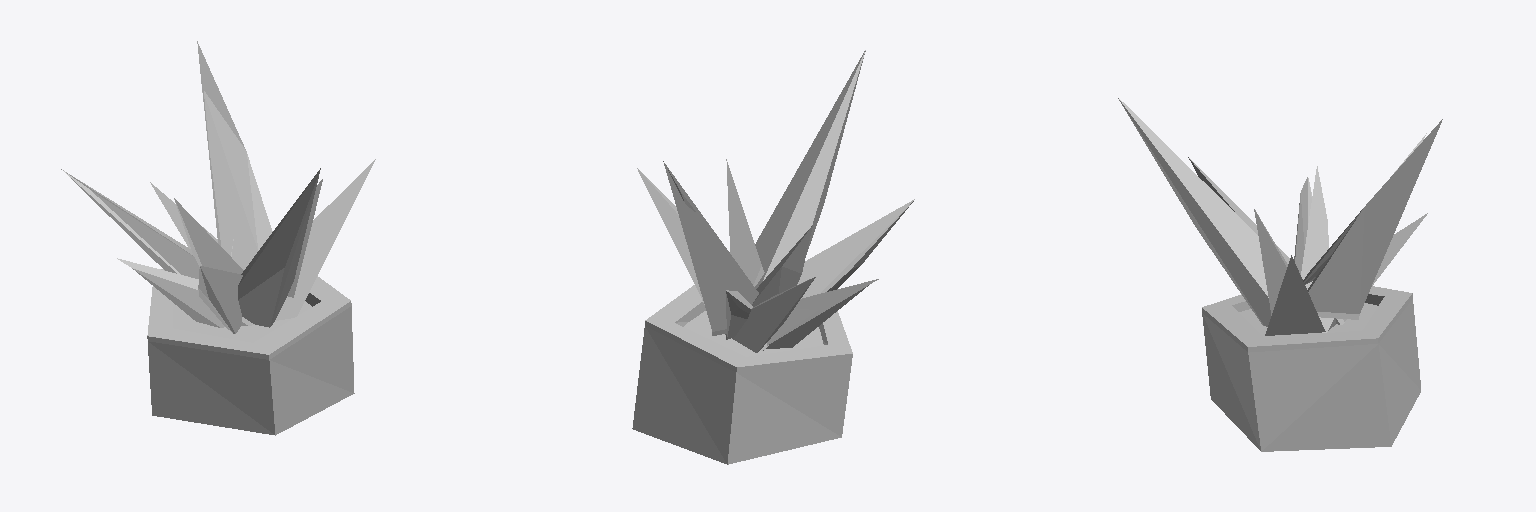
The model's file is Cactus.obj.
3 renders of one model, left to right at view 1: azimuth 30°, elevation 25°; view 2: azimuth 150°, elevation 25°; view 3: azimuth 270°, elevation 25°, orthographic.
Visible parts, largest first — view 1: group[number redacted], group[number redacted], group[number redacted], group[number redacted], group[number redacted], group[number redacted], group[number redacted], group[number redacted], group[number redacted], group[number redacted], group[number redacted]; view 2: group[number redacted], group[number redacted], group[number redacted], group[number redacted], group[number redacted], group[number redacted], group[number redacted], group[number redacted], group[number redacted], group[number redacted], group[number redacted]; view 3: group[number redacted], group[number redacted], group[number redacted], group[number redacted], group[number redacted], group[number redacted], group[number redacted], group[number redacted], group[number redacted], group[number redacted].
Part boxes in pixels (left/top/right/bottom): group[number redacted]: left=147, top=269, right=354, bottom=435; group[number redacted]: left=197, top=41, right=272, bottom=269; group[number redacted]: left=238, top=168, right=320, bottom=327; group[number redacted]: left=241, top=159, right=375, bottom=325; group[number redacted]: left=61, top=169, right=199, bottom=278; group[number redacted]: left=117, top=258, right=224, bottom=327; group[number redacted]: left=198, top=266, right=242, bottom=333; group[number redacted]: left=174, top=198, right=243, bottom=273; group[number redacted]: left=173, top=301, right=311, bottom=342; group[number redacted]: left=288, top=179, right=322, bottom=297; group[number redacted]: left=150, top=182, right=217, bottom=248; group[number redacted]: left=632, top=285, right=852, bottom=464; group[number redacted]: left=755, top=50, right=865, bottom=288; group[number redacted]: left=663, top=161, right=758, bottom=335; group[number redacted]: left=761, top=199, right=914, bottom=350; group[number redacted]: left=767, top=279, right=878, bottom=348; group[number redacted]: left=725, top=277, right=815, bottom=352; group[number redacted]: left=726, top=159, right=764, bottom=286; group[number redacted]: left=752, top=225, right=812, bottom=306; group[number redacted]: left=637, top=168, right=704, bottom=304; group[number redacted]: left=684, top=311, right=823, bottom=356; group[number redacted]: left=726, top=290, right=752, bottom=339; group[number redacted]: left=1202, top=286, right=1420, bottom=451; group[number redacted]: left=1303, top=119, right=1442, bottom=319; group[number redacted]: left=1118, top=98, right=1270, bottom=326; group[number redacted]: left=1265, top=255, right=1325, bottom=335; group[number redacted]: left=1301, top=166, right=1328, bottom=289; group[number redacted]: left=1254, top=209, right=1287, bottom=315; group[number redacted]: left=1239, top=303, right=1377, bottom=337; group[number redacted]: left=1294, top=177, right=1311, bottom=274; group[number redacted]: left=1336, top=213, right=1427, bottom=324; group[number redacted]: left=1188, top=157, right=1289, bottom=263.
Size of the model in its own units: 0.2494 by 0.2876 by 0.2799.